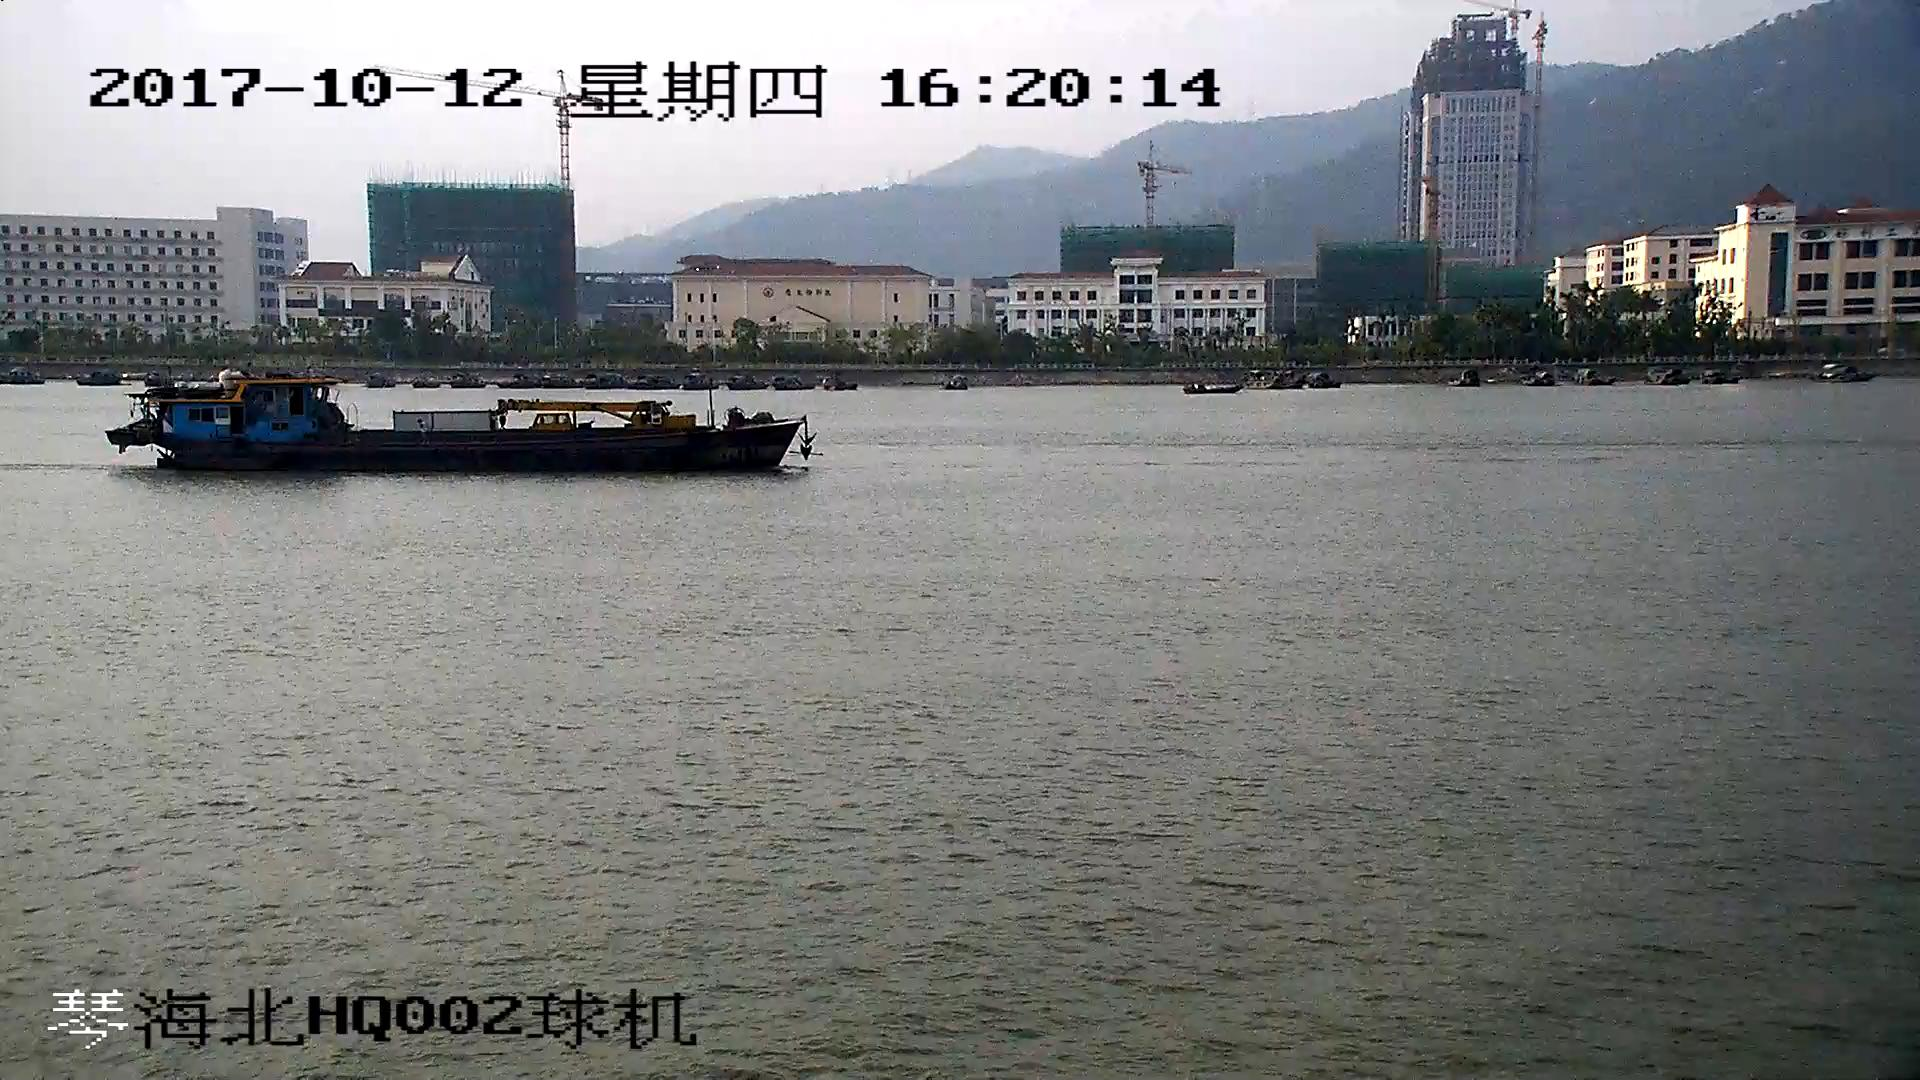fishing boat: (108, 372, 818, 475)
